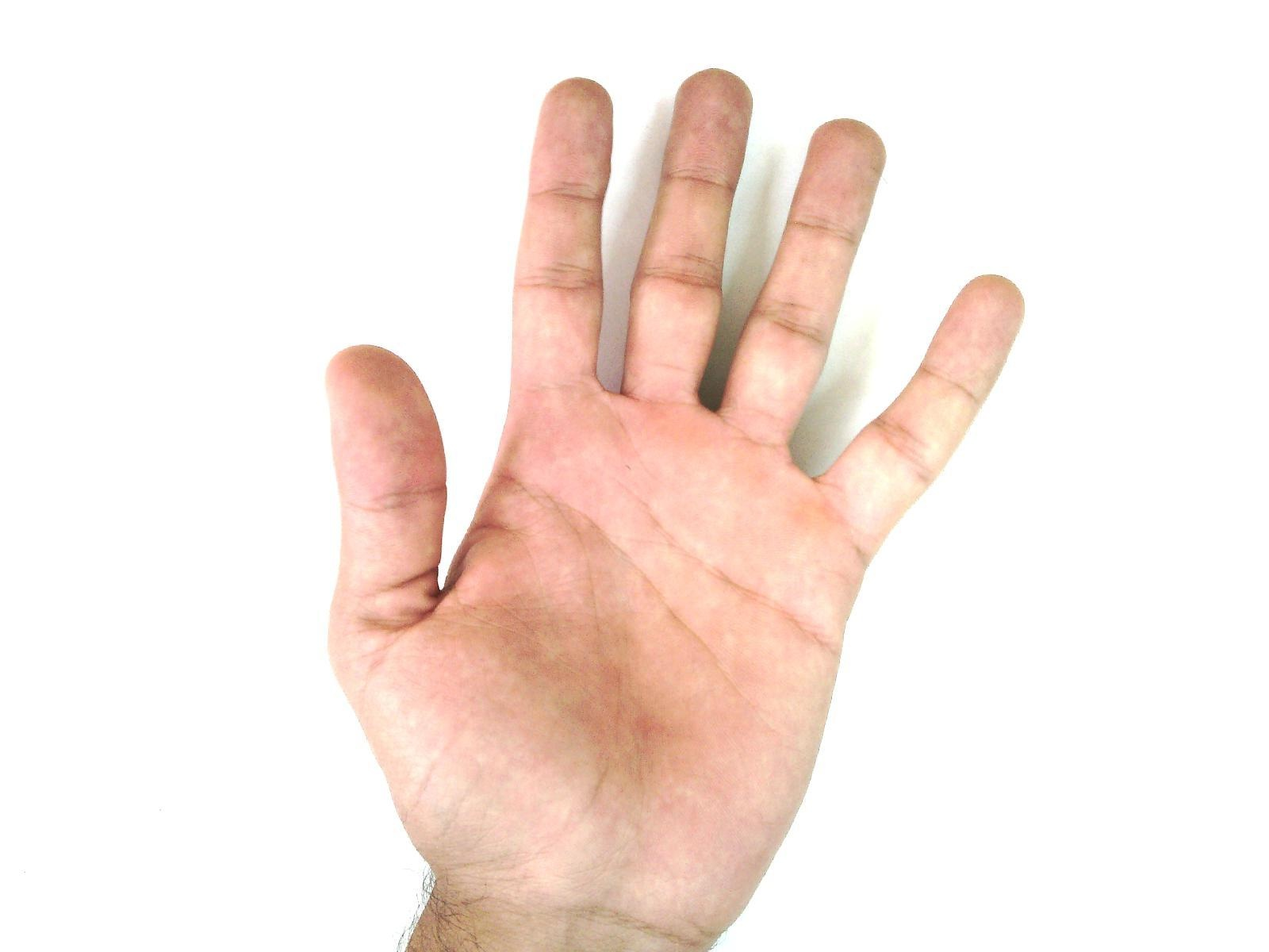open_palm: (320, 67, 1028, 932)
